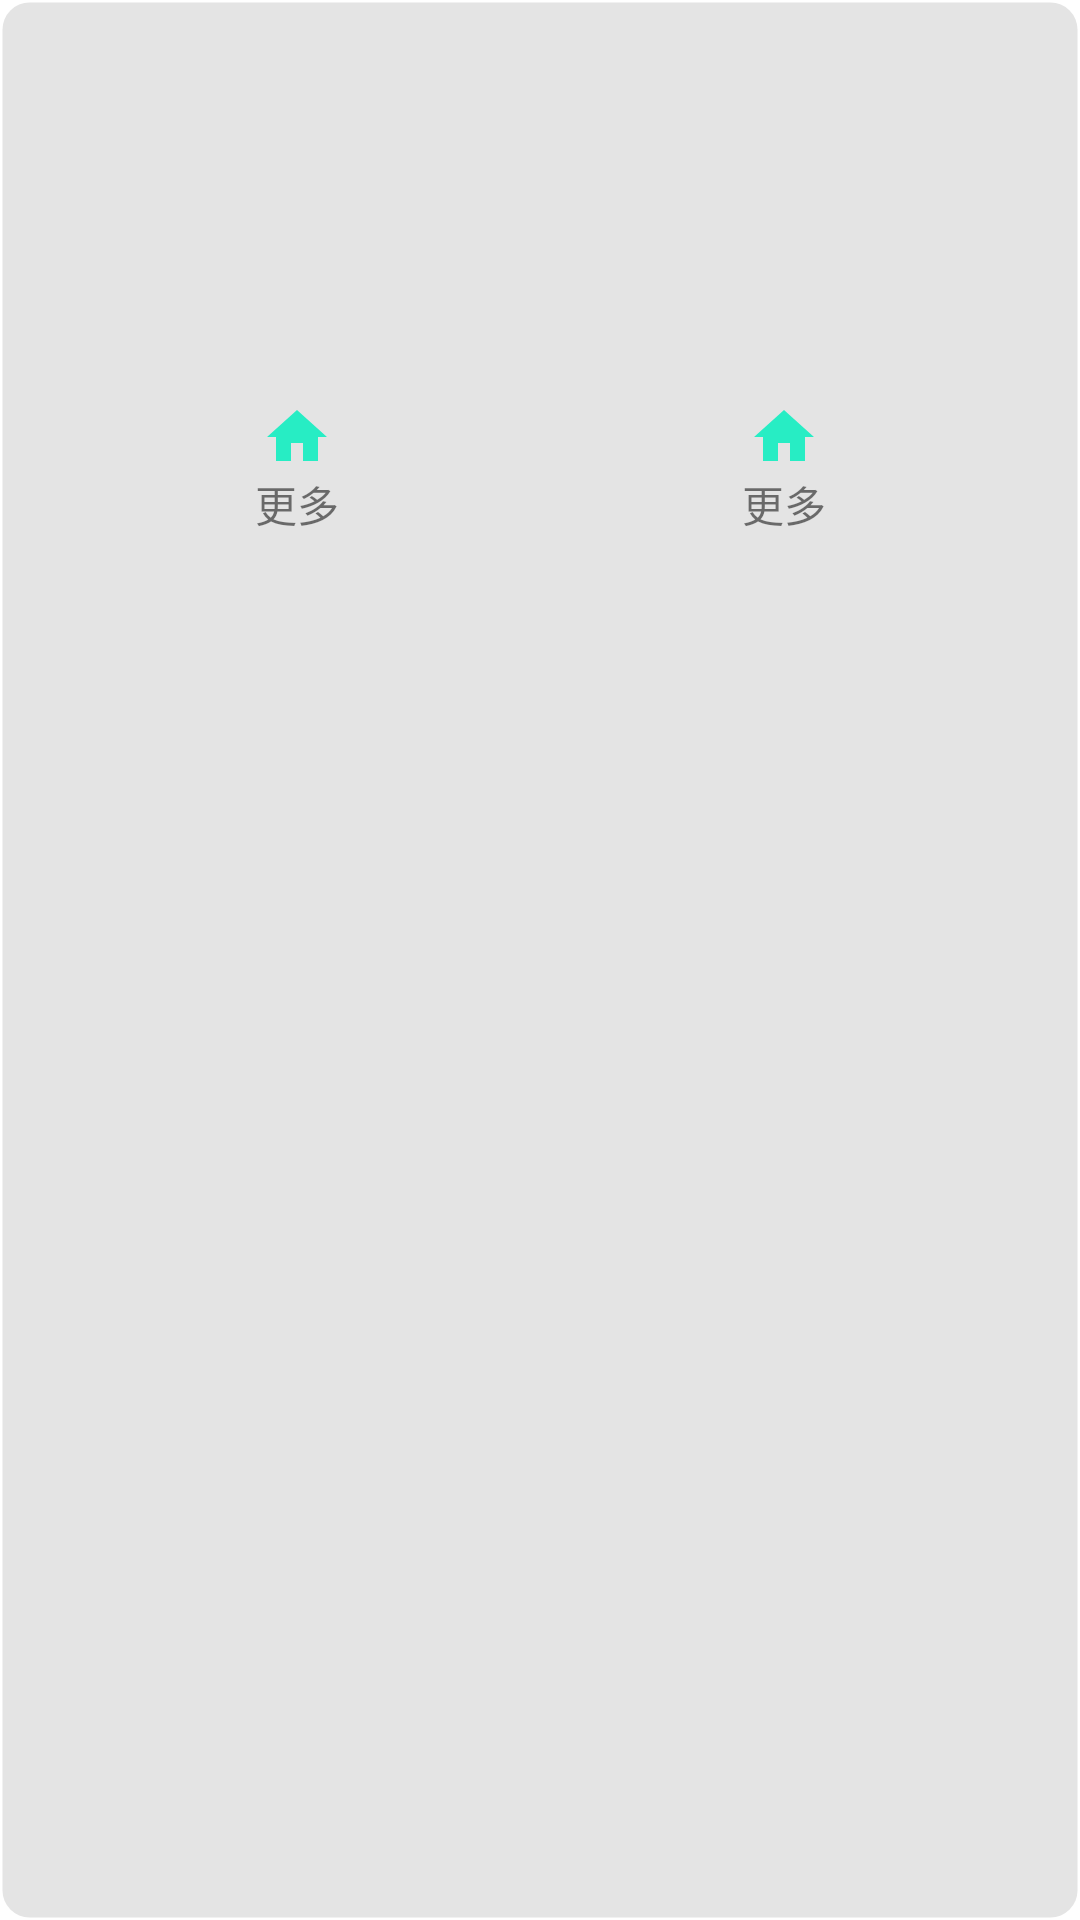

Icon bounding boxes for this 1080w x 1920h phone screenshot, format (x1, y1, x2, y2):
home: (267, 410, 327, 461), (754, 410, 814, 461)
